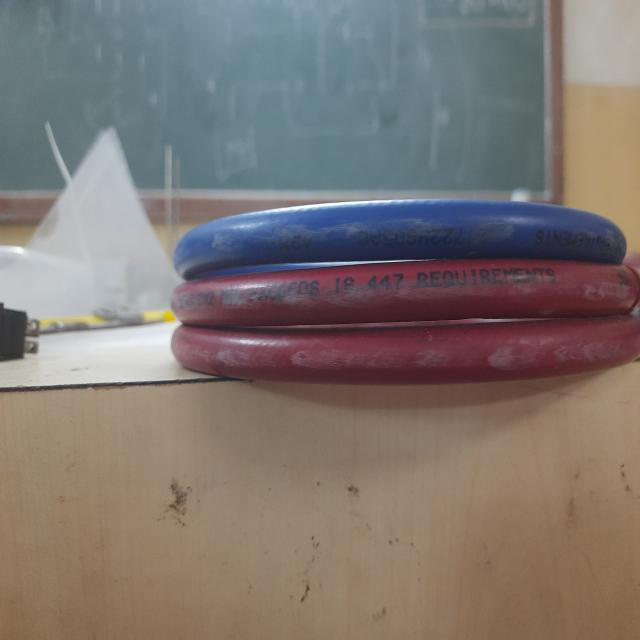daire: (173, 263, 640, 327), (175, 196, 640, 260), (175, 326, 640, 388)
